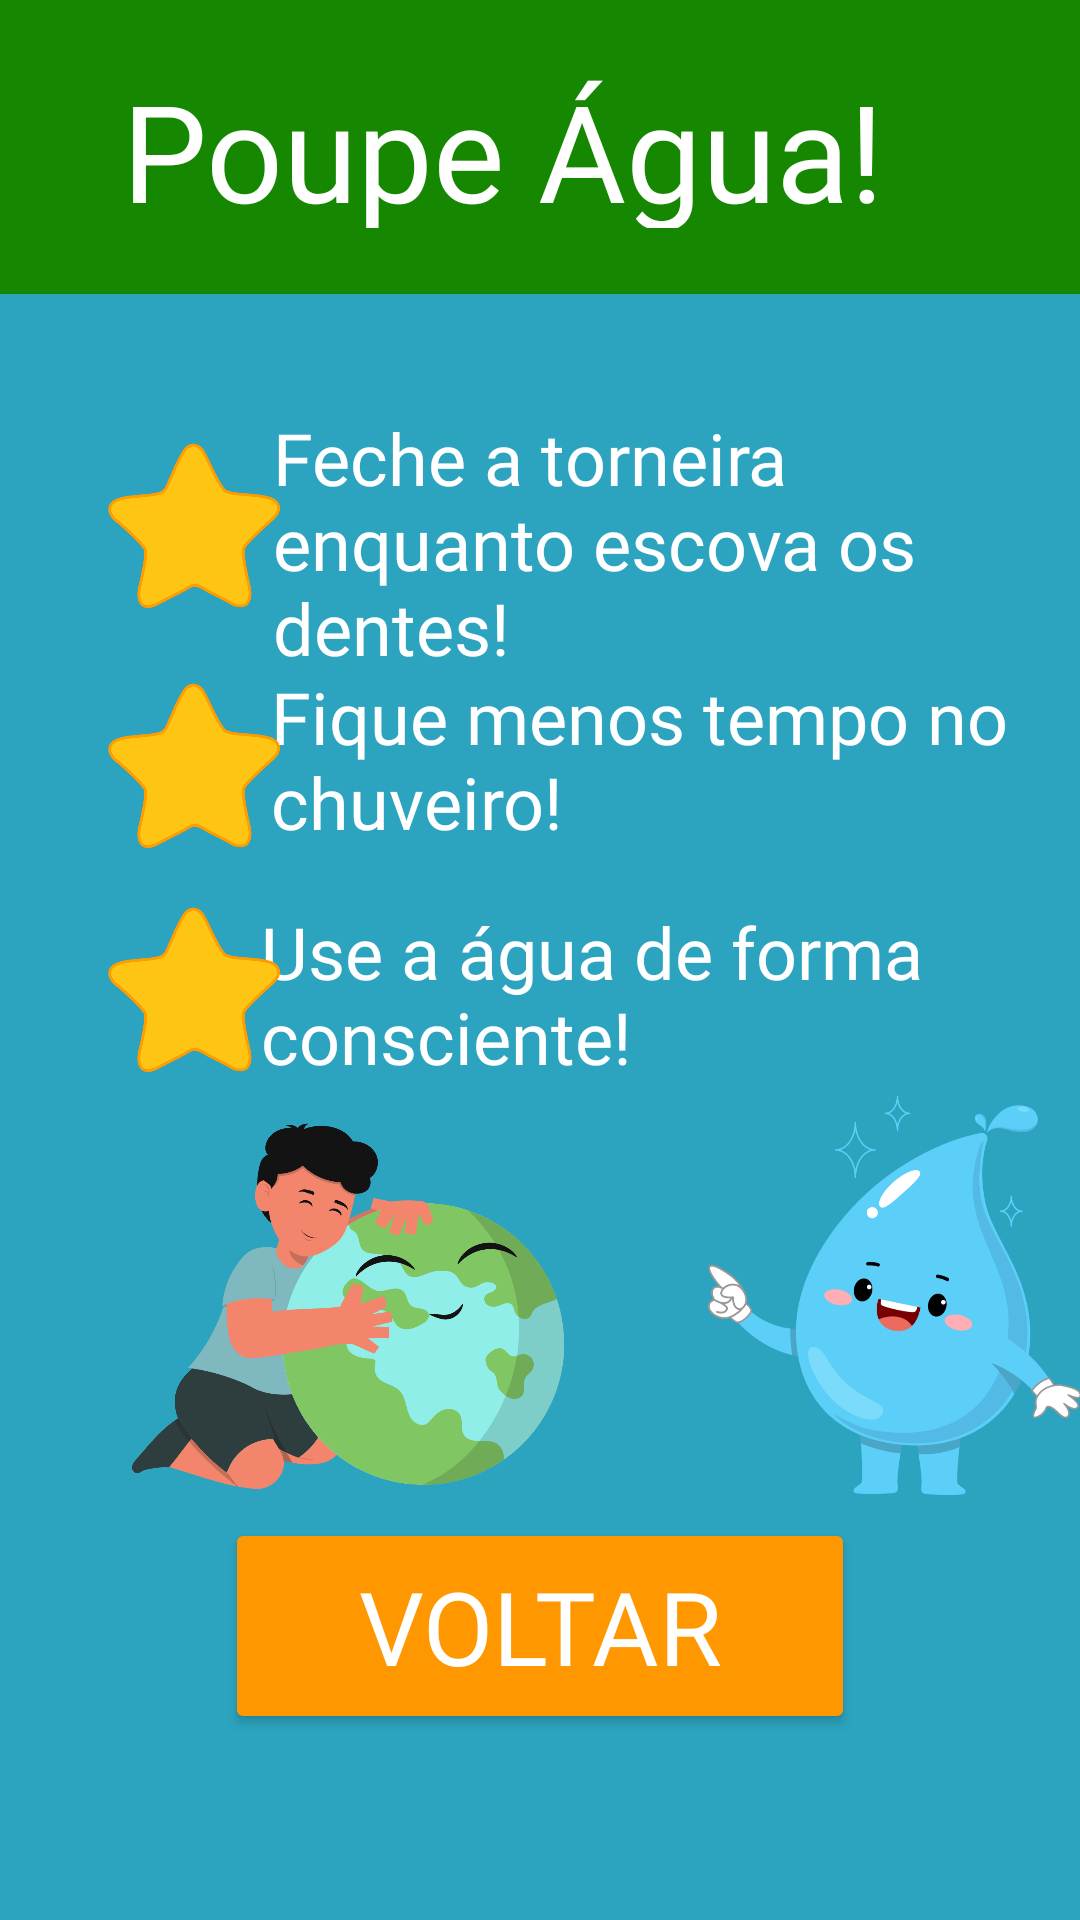

Where to tap for icons on this 1080 × 1920 app screen, as (x=x, y=y):
estrelinha arredondada: (x=209, y=544), (x=216, y=765), (x=205, y=989)
